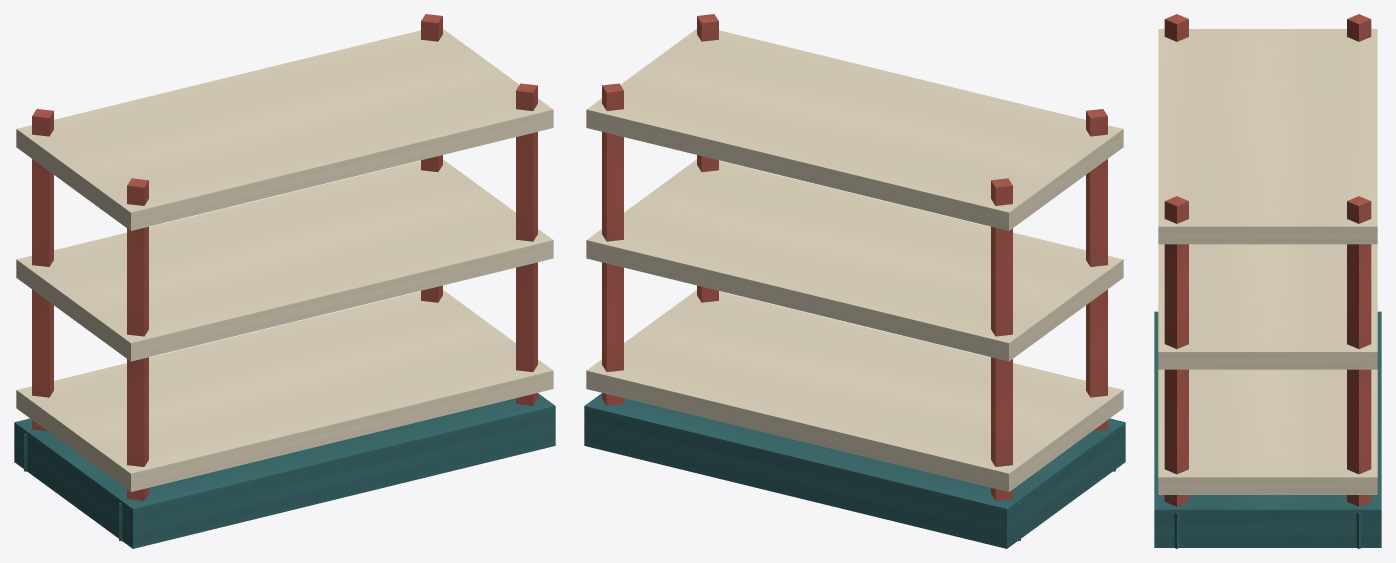
File: atlas100-s033-a06.lod2.glb
3 views of the same model, side by side, from view 1: azimuth 30°, elevation 25°; view 2: azimuth 150°, elevation 25°; view 3: azimuth 270°, elevation 25° (orthographic). The views are drawn at different scales.
Parts seen in each view (by area): view 1: atlas100-s033-a06:part-013, atlas100-s033-a06:part-011, atlas100-s033-a06:part-012, atlas100-s033-a06:part-000, atlas100-s033-a06:part-005, atlas100-s033-a06:part-009, atlas100-s033-a06:part-003, atlas100-s033-a06:part-007; view 2: atlas100-s033-a06:part-013, atlas100-s033-a06:part-011, atlas100-s033-a06:part-012, atlas100-s033-a06:part-000, atlas100-s033-a06:part-003, atlas100-s033-a06:part-007, atlas100-s033-a06:part-005, atlas100-s033-a06:part-009; view 3: atlas100-s033-a06:part-013, atlas100-s033-a06:part-012, atlas100-s033-a06:part-011, atlas100-s033-a06:part-000, atlas100-s033-a06:part-007, atlas100-s033-a06:part-009, atlas100-s033-a06:part-003, atlas100-s033-a06:part-005.
Part boxes in pixels (x1,y1,x2,y2): atlas100-s033-a06:part-013: [16, 29, 553, 230]; atlas100-s033-a06:part-011: [16, 290, 553, 491]; atlas100-s033-a06:part-012: [16, 159, 553, 361]; atlas100-s033-a06:part-000: [14, 393, 555, 548]; atlas100-s033-a06:part-005: [127, 178, 148, 500]; atlas100-s033-a06:part-009: [516, 83, 537, 405]; atlas100-s033-a06:part-003: [32, 109, 53, 431]; atlas100-s033-a06:part-007: [421, 14, 442, 302]; atlas100-s033-a06:part-013: [586, 29, 1123, 230]; atlas100-s033-a06:part-011: [586, 290, 1123, 491]; atlas100-s033-a06:part-012: [586, 159, 1123, 361]; atlas100-s033-a06:part-000: [584, 393, 1125, 548]; atlas100-s033-a06:part-003: [991, 178, 1012, 500]; atlas100-s033-a06:part-007: [602, 83, 623, 405]; atlas100-s033-a06:part-005: [1086, 109, 1107, 431]; atlas100-s033-a06:part-009: [697, 14, 718, 302]; atlas100-s033-a06:part-013: [1158, 29, 1377, 244]; atlas100-s033-a06:part-012: [1158, 244, 1377, 369]; atlas100-s033-a06:part-011: [1158, 369, 1377, 494]; atlas100-s033-a06:part-000: [1154, 311, 1381, 547]; atlas100-s033-a06:part-007: [1347, 196, 1371, 506]; atlas100-s033-a06:part-009: [1164, 196, 1188, 506]; atlas100-s033-a06:part-003: [1347, 14, 1371, 41]; atlas100-s033-a06:part-005: [1164, 14, 1188, 41].
Size of the model in its own units: 2.91 by 2.3 by 1.4.
Materials: 3 (3 with a texture image).
